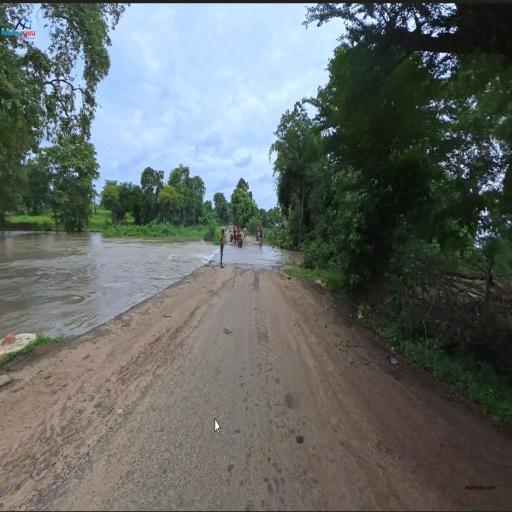edge_damage: (81, 390, 177, 475)
